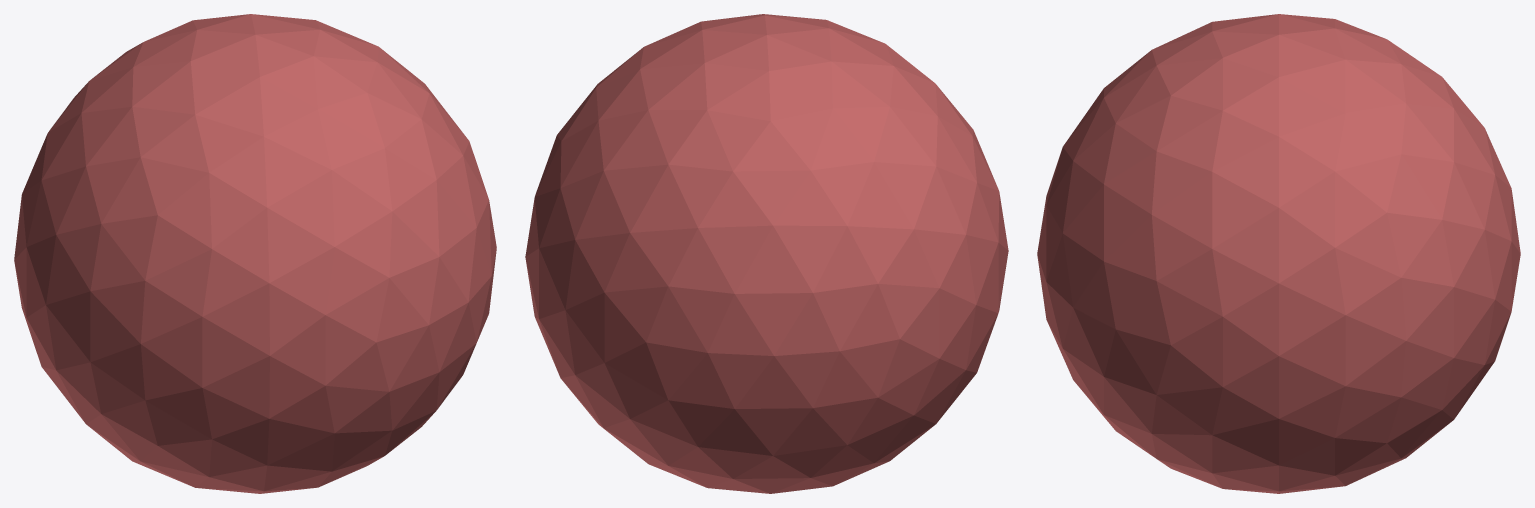
File: bromide.fbx
3 views of the same model, side by side, from view 1: azimuth 30°, elevation 25°; view 2: azimuth 150°, elevation 25°; view 3: azimuth 270°, elevation 25° (orthographic).
Parts seen in each view (by area): view 1: Shape_IndexedFaceSet; view 2: Shape_IndexedFaceSet; view 3: Shape_IndexedFaceSet.
Part boxes in pixels (left/top/right/bottom): Shape_IndexedFaceSet: left=14, top=14, right=496, bottom=493; Shape_IndexedFaceSet: left=525, top=14, right=1008, bottom=493; Shape_IndexedFaceSet: left=1037, top=14, right=1520, bottom=493.
Size of the model in its own units: 842 by 842 by 842.
